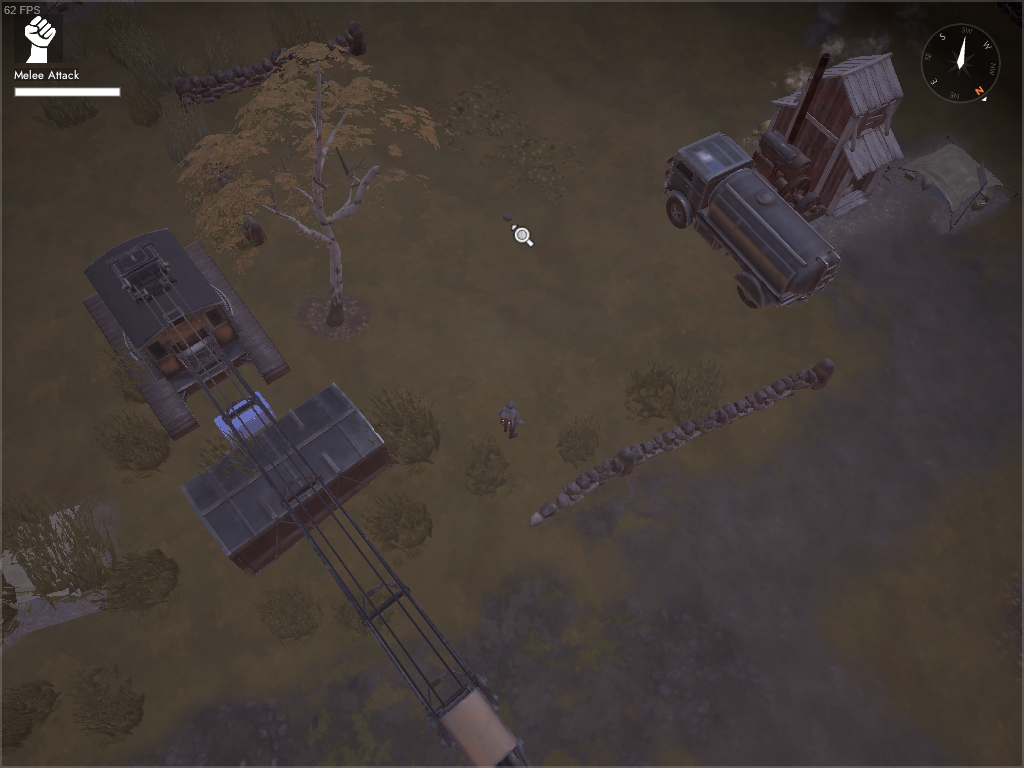container: (177, 380, 394, 579)
crane: (80, 226, 531, 768)
foxhole: (1, 492, 113, 643), (883, 131, 1024, 241)
player: (496, 400, 523, 441)
storage_box: (213, 390, 278, 448)
tanker: (663, 131, 842, 312)
